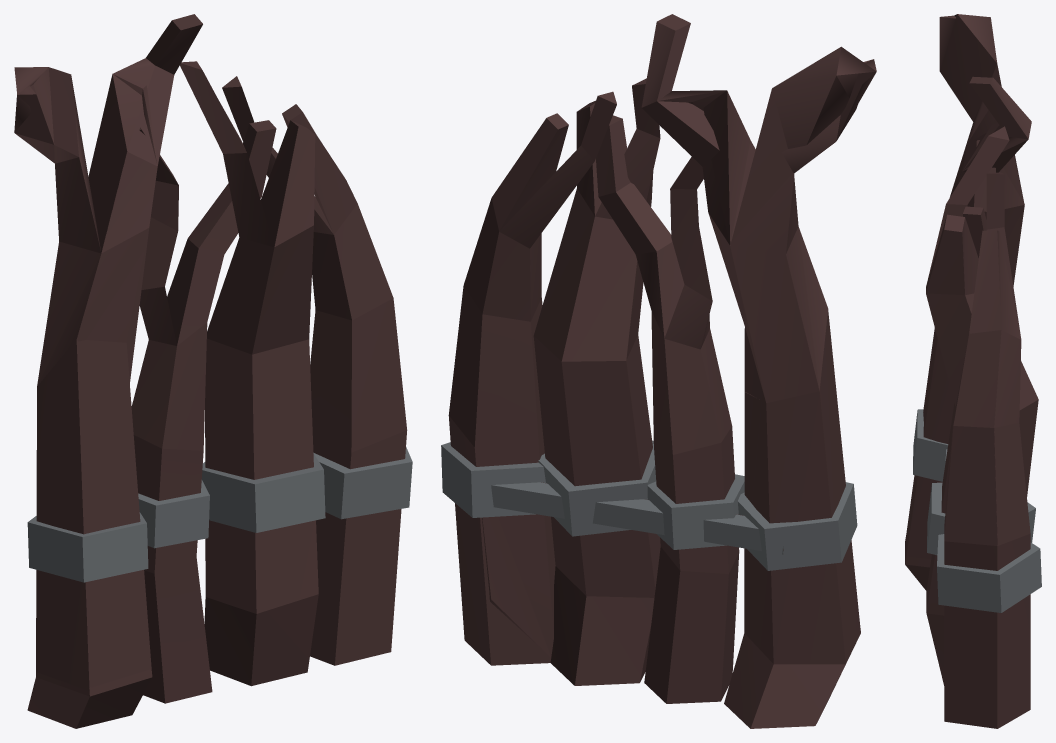
Rendered from DarkRoseWoodMechSmallVineDoorwLatch1.fbx.
The picture shows the model from 3 angles, left to right: view 1: azimuth 30°, elevation 25°; view 2: azimuth 150°, elevation 25°; view 3: azimuth 270°, elevation 25°; orthographic projection. The views are drawn at different scales.
Parts seen in each view (by area): view 1: DarkRoseWoodMechSmallVineDoorwLatch1, TreeDoorCOL1, TreeDoorCOL20, TreeDoorCOL12, TreeDoorCOL13, TreeDoorCOL6, TreeDoorCOL11, TreeDoorCOL14, TreeDoorCOL5, TreeDoorCOL9, TreeDoorCOL19, TreeDoorCOL17 (+4 smaller); view 2: DarkRoseWoodMechSmallVineDoorwLatch1, TreeDoorCOL5, TreeDoorCOL6, TreeDoorCOL12, TreeDoorCOL20, TreeDoorCOL1, TreeDoorCOL4, TreeDoorCOL9, TreeDoorCOL11, TreeDoorCOL14; view 3: DarkRoseWoodMechSmallVineDoorwLatch1, TreeDoorCOL12, TreeDoorCOL11, TreeDoorCOL13, TreeDoorCOL5, TreeDoorCOL14, TreeDoorCOL6, TreeDoorCOL16, TreeDoorCOL17, TreeDoorCOL1, TreeDoorCOL18, TreeDoorCOL19 (+2 smaller).
Boxes of the visible parts, bbox=[...] form: DarkRoseWoodMechSmallVineDoorwLatch1: bbox=[14, 14, 412, 709]; TreeDoorCOL1: bbox=[204, 338, 318, 686]; TreeDoorCOL20: bbox=[131, 322, 212, 703]; TreeDoorCOL12: bbox=[310, 430, 406, 665]; TreeDoorCOL13: bbox=[310, 298, 406, 452]; TreeDoorCOL6: bbox=[88, 14, 202, 253]; TreeDoorCOL11: bbox=[222, 76, 393, 320]; TreeDoorCOL14: bbox=[207, 225, 313, 354]; TreeDoorCOL5: bbox=[14, 67, 101, 253]; TreeDoorCOL9: bbox=[37, 228, 149, 385]; TreeDoorCOL19: bbox=[139, 129, 178, 345]; TreeDoorCOL17: bbox=[180, 61, 274, 246]; DarkRoseWoodMechSmallVineDoorwLatch1: bbox=[441, 14, 876, 728]; TreeDoorCOL5: bbox=[730, 46, 876, 253]; TreeDoorCOL6: bbox=[657, 14, 754, 244]; TreeDoorCOL12: bbox=[476, 443, 555, 657]; TreeDoorCOL20: bbox=[700, 329, 739, 700]; TreeDoorCOL1: bbox=[626, 335, 660, 682]; TreeDoorCOL4: bbox=[744, 392, 860, 663]; TreeDoorCOL9: bbox=[786, 226, 828, 389]; TreeDoorCOL11: bbox=[530, 92, 616, 320]; TreeDoorCOL14: bbox=[626, 201, 651, 359]; DarkRoseWoodMechSmallVineDoorwLatch1: bbox=[906, 17, 1041, 728]; TreeDoorCOL12: bbox=[944, 541, 997, 728]; TreeDoorCOL11: bbox=[953, 172, 1020, 427]; TreeDoorCOL13: bbox=[944, 422, 997, 545]; TreeDoorCOL5: bbox=[939, 14, 1023, 199]; TreeDoorCOL14: bbox=[926, 293, 971, 405]; TreeDoorCOL6: bbox=[949, 77, 1028, 202]; TreeDoorCOL16: bbox=[926, 214, 964, 295]; TreeDoorCOL17: bbox=[927, 126, 1008, 282]; TreeDoorCOL1: bbox=[926, 403, 955, 685]; TreeDoorCOL18: bbox=[963, 207, 983, 257]; TreeDoorCOL19: bbox=[974, 140, 995, 219].
Bounding box in the file's own units: 324 × 502 × 110.
